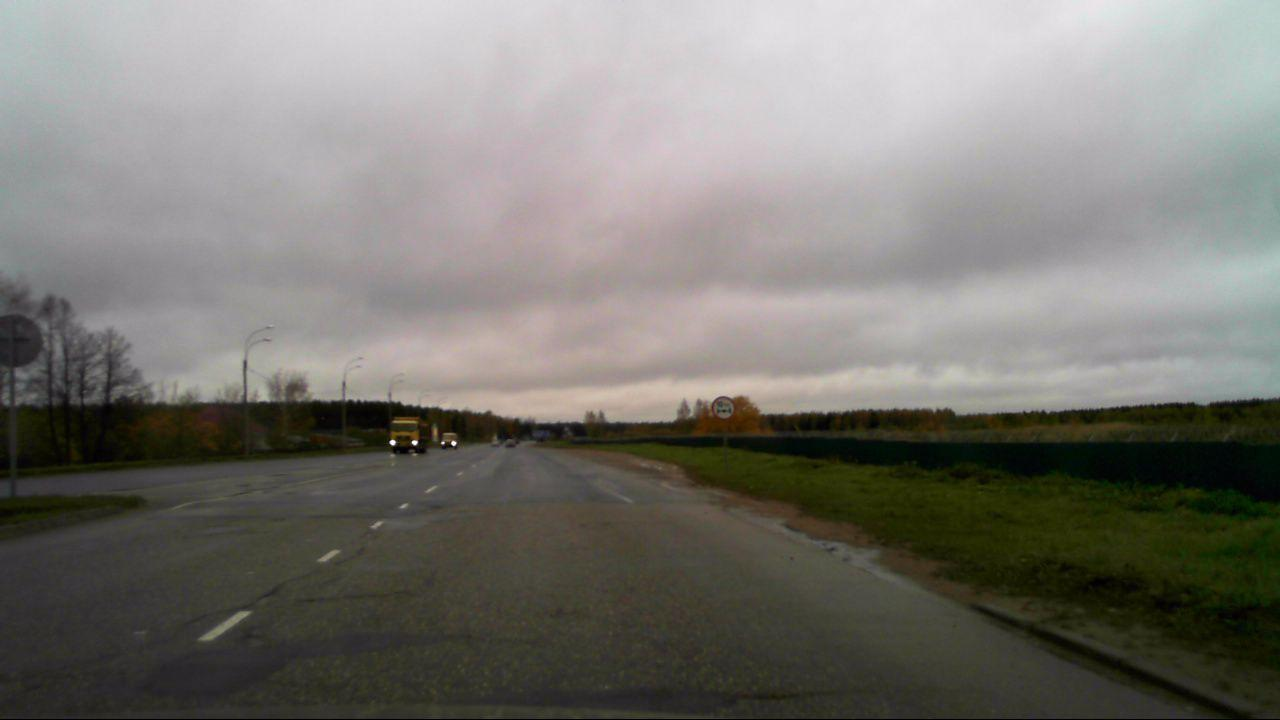3_12: (710, 394, 737, 420)
